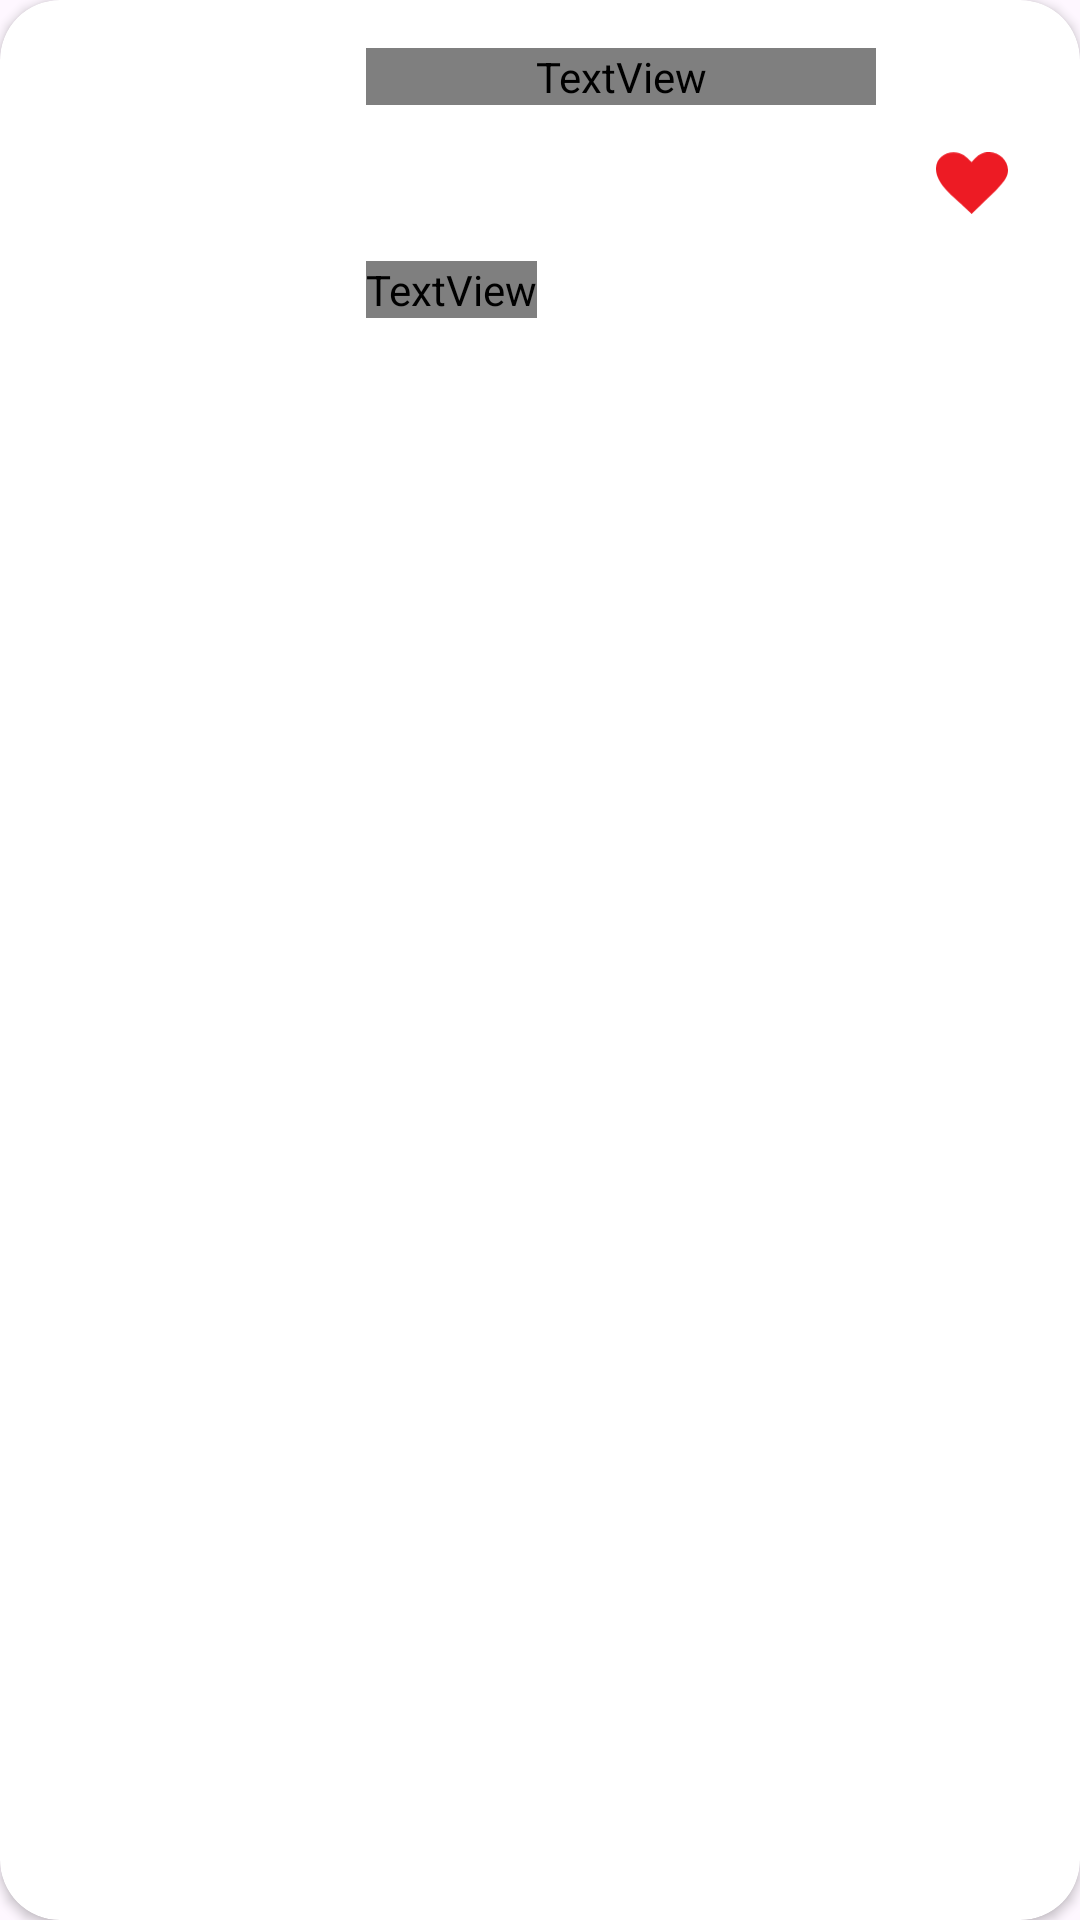

Icons on this 1080×1920 Android screen, each with its box as (x1, y1, x2, y2):
favourite: (936, 152, 1008, 214)
